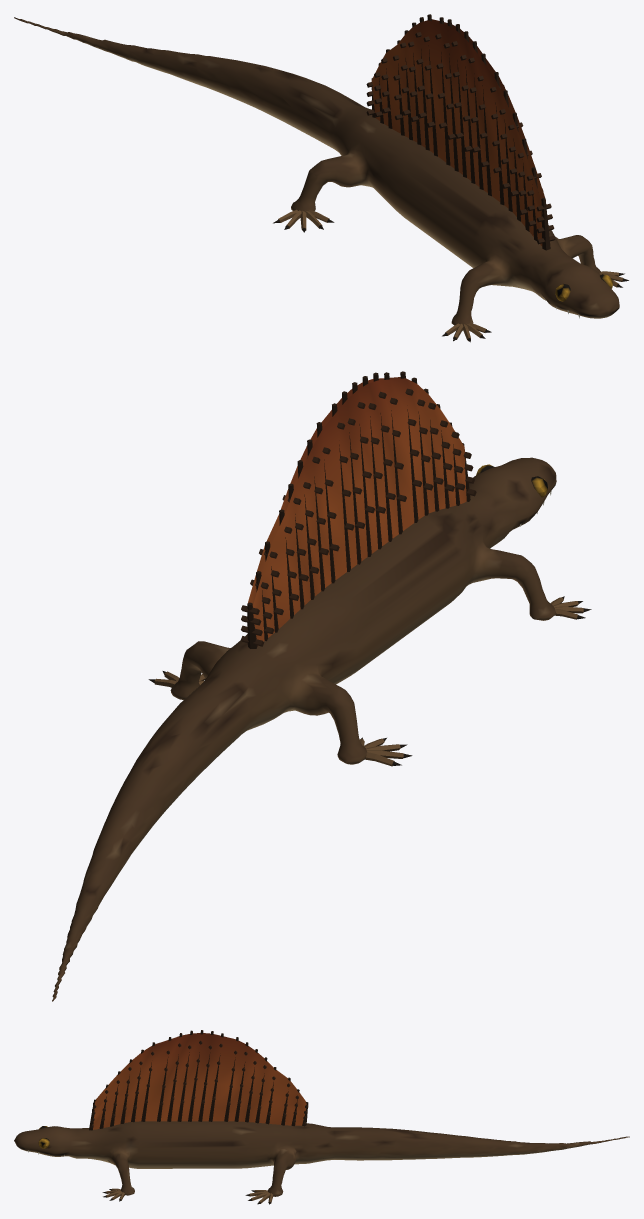
File: Ianthasaurus.fbx
3 renders of one model, top to bottom at view 1: azimuth 30°, elevation 25°; view 2: azimuth 150°, elevation 25°; view 3: azimuth 270°, elevation 25°, orthographic. The views are drawn at different scales.
Visible parts, largest first — view 1: Ianthasaurus; view 2: Ianthasaurus; view 3: Ianthasaurus.
Part boxes in pixels (x1,y1,x2,y2): Ianthasaurus: (14, 14, 628, 342); Ianthasaurus: (52, 371, 591, 1001); Ianthasaurus: (14, 1030, 629, 1204).
Bounding box in the file's own units: 0.3003 × 0.2927 × 1.15.
